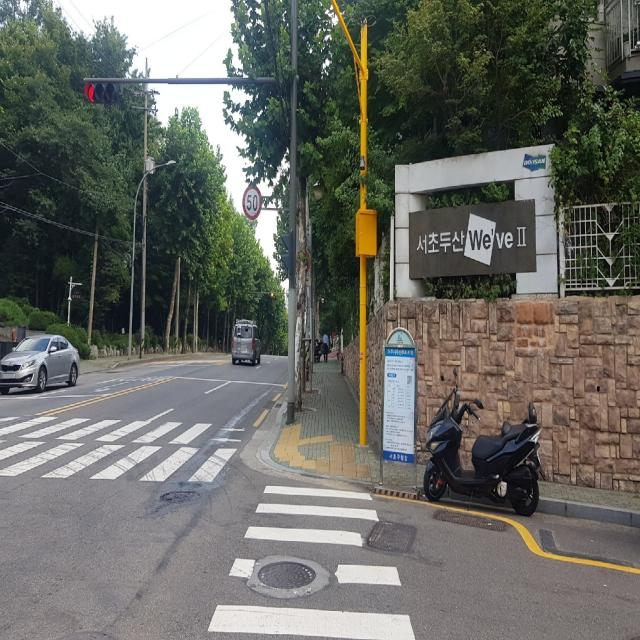횡단보도: (207, 485, 416, 640), (0, 417, 239, 479)
